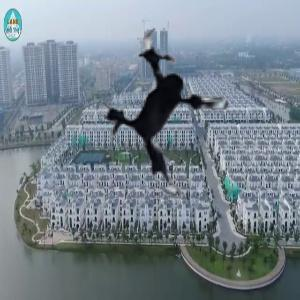drone: (80, 18, 269, 207)
